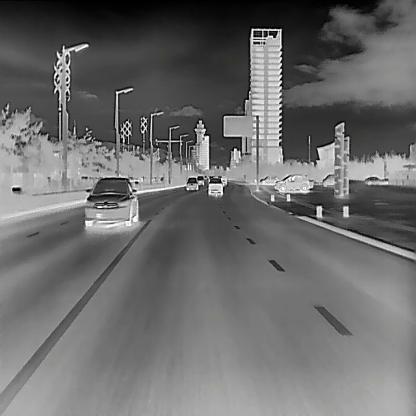car: (83, 176, 138, 227), (273, 173, 309, 194), (207, 177, 223, 196), (260, 173, 276, 185), (185, 176, 198, 190), (363, 175, 379, 184), (197, 175, 203, 185)
